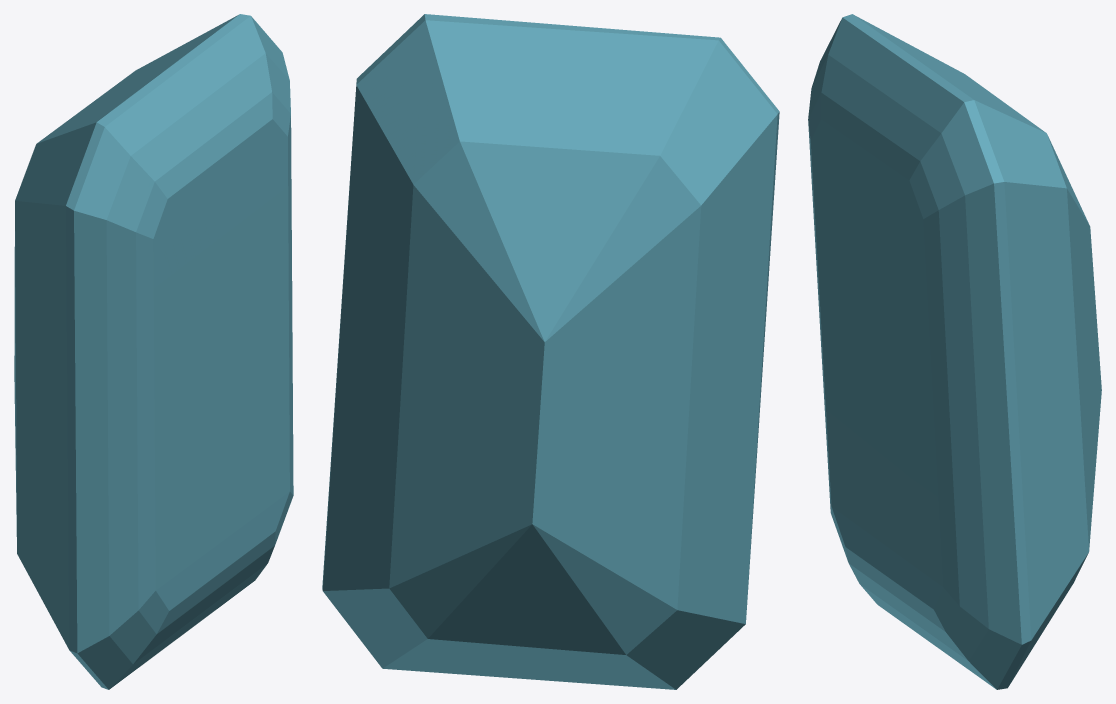
The model's file is TR2_8shapes_Emerald_Classic_Stone.001 3.glb.
The picture shows the model from 3 angles, left to right: view 1: azimuth 30°, elevation 25°; view 2: azimuth 150°, elevation 25°; view 3: azimuth 270°, elevation 25°; orthographic projection. The views are drawn at different scales.
Parts seen in each view (by area): view 1: TR2_8shapes_Emerald_Classic_Stone.001; view 2: TR2_8shapes_Emerald_Classic_Stone.001; view 3: TR2_8shapes_Emerald_Classic_Stone.001.
Part boxes in pixels (box(x1,y1,x2,y2)): TR2_8shapes_Emerald_Classic_Stone.001: box(14, 14, 293, 689); TR2_8shapes_Emerald_Classic_Stone.001: box(322, 14, 779, 689); TR2_8shapes_Emerald_Classic_Stone.001: box(808, 14, 1101, 689).
Bounding box in the file's own units: 0.3554 × 0.6401 × 0.2877.
